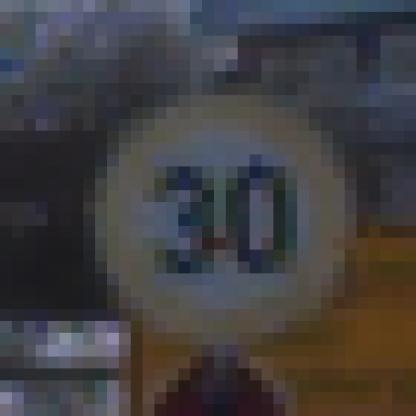Speed Limit 30: (102, 102, 346, 340)
